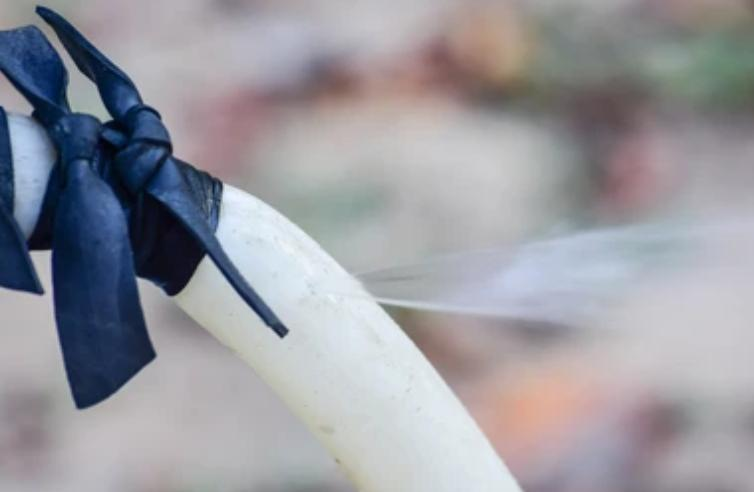pipe burst: (300, 223, 754, 330)
